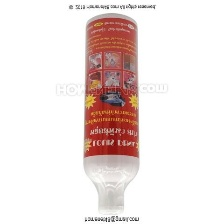cleaning_solution: (81, 10, 140, 218)
